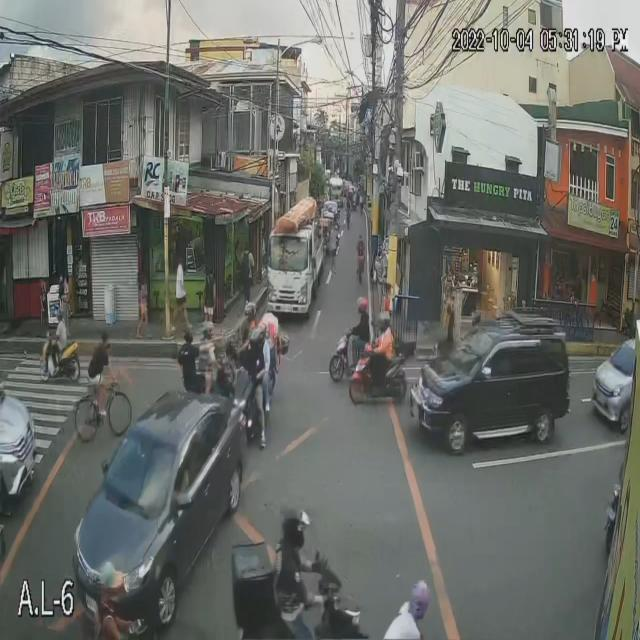full: (280, 504, 308, 550), (378, 310, 391, 336), (356, 295, 368, 316), (202, 320, 213, 340), (183, 326, 194, 344), (245, 301, 256, 319)
half: (249, 328, 260, 349), (258, 323, 266, 343)
invalid: (409, 578, 428, 620)
